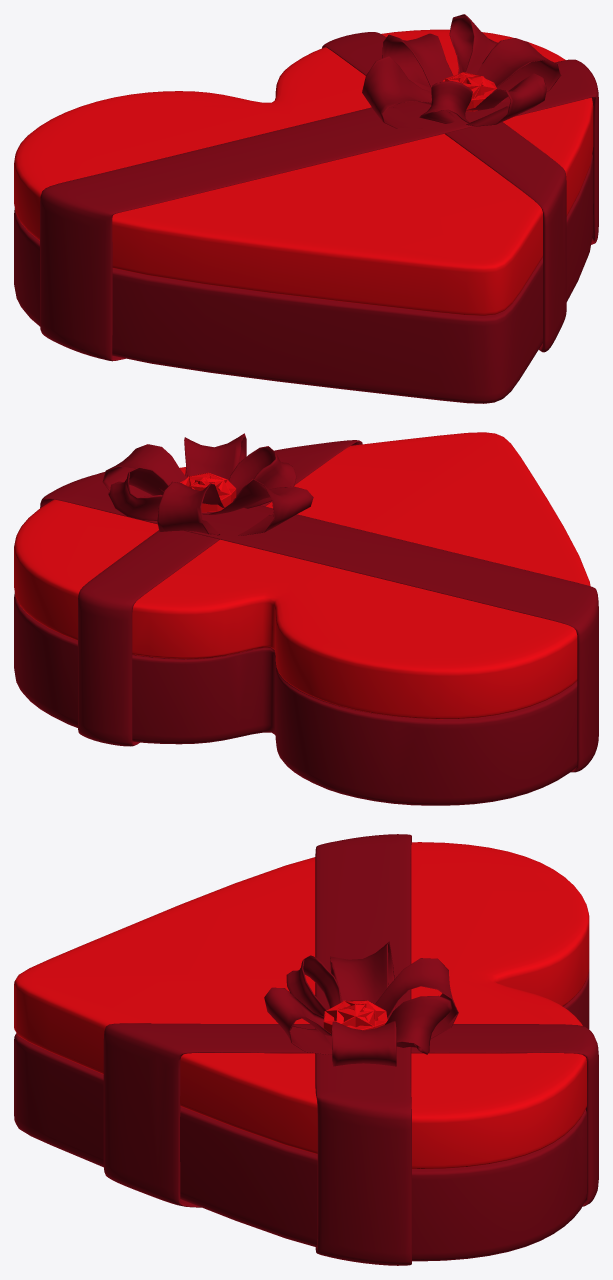
File: SM_SM_HeartBox_01.fbx
3 views of the same model, one above another, from view 1: azimuth 30°, elevation 25°; view 2: azimuth 150°, elevation 25°; view 3: azimuth 270°, elevation 25° (orthographic). The views are drawn at different scales.
Visible parts, largest first — view 1: SM_HeartBox_01; view 2: SM_HeartBox_01; view 3: SM_HeartBox_01.
Boxes of the visible parts, x1,y1,x2,y2 form: SM_HeartBox_01: (14,14,598,403); SM_HeartBox_01: (14,432,598,805); SM_HeartBox_01: (14,834,598,1265).
Size of the model in its own units: 53.26 by 19.65 by 46.75.
